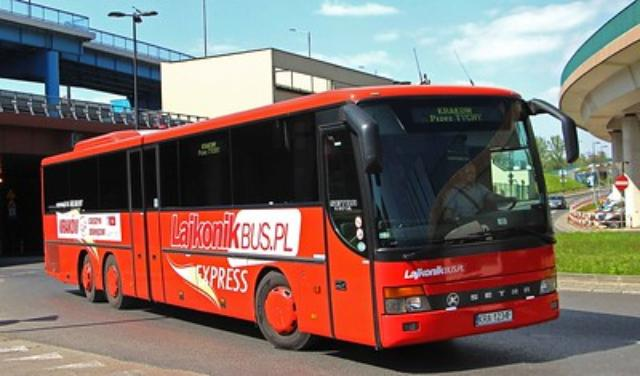bus: (40, 82, 560, 352)
